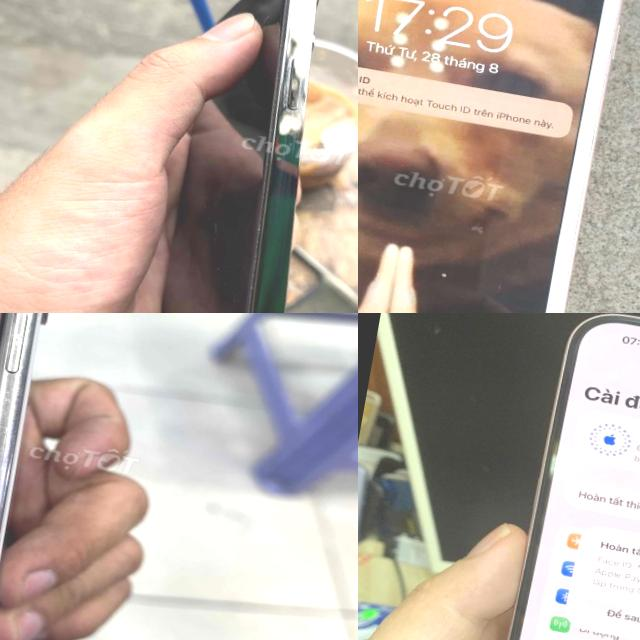gen_12_13: (131, 0, 358, 313)
gen_15: (433, 313, 640, 640)
gen_6: (358, 0, 620, 313)
gen_x_xs: (0, 313, 47, 559)
scratch: (0, 313, 47, 548)
